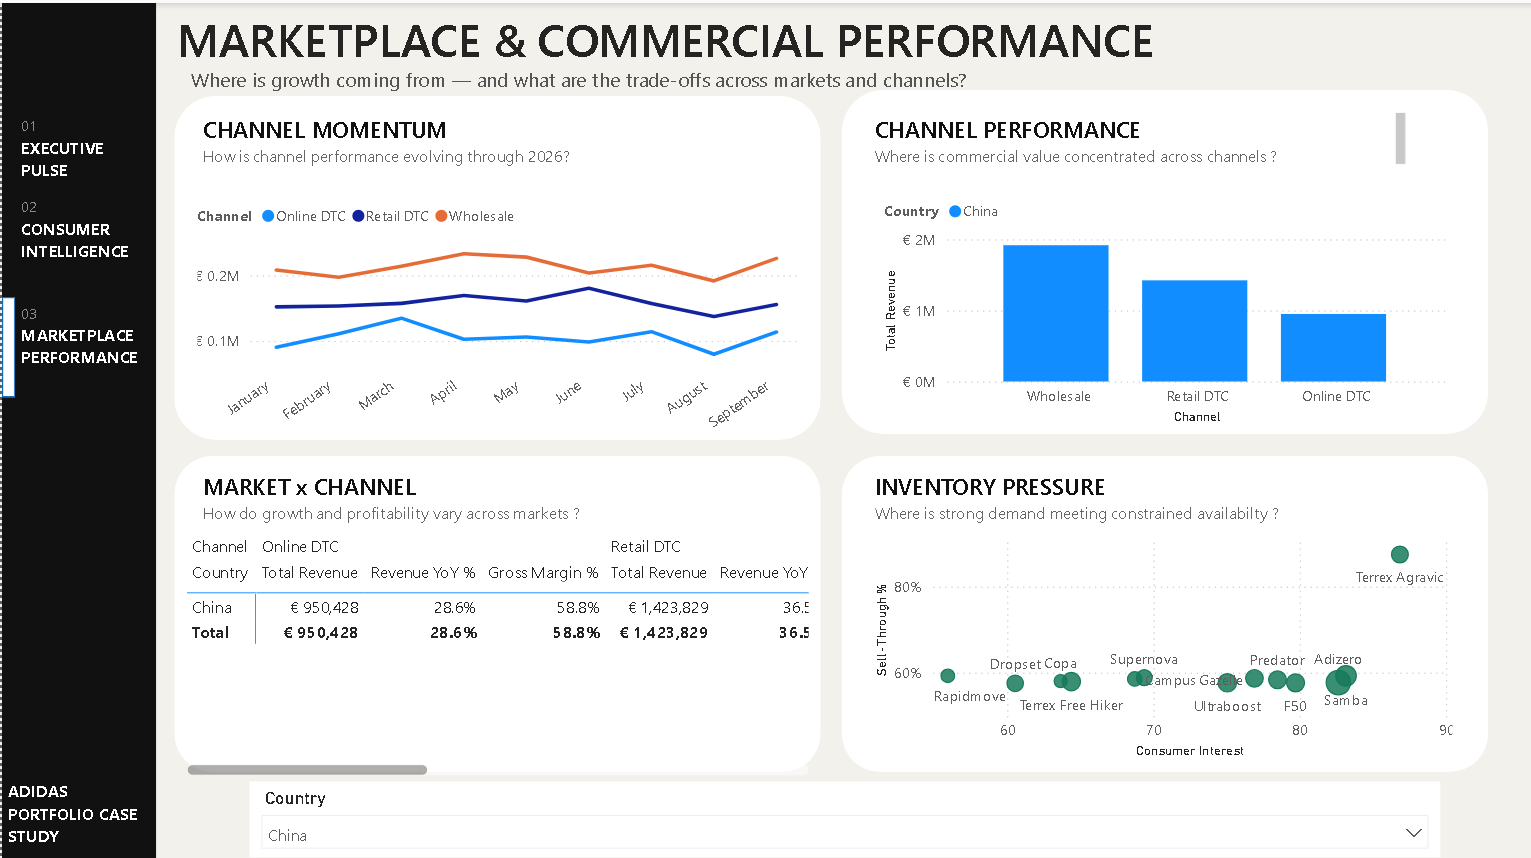

This screenshot's page, from the dashboard's own definition file:
{"tool":"powerbi","page":{"name":"Marketplace Performance","canvas":[1280,720],"ordinal":3},"visuals":[{"type":"shape","box":[693,369.2,557.2,281.3],"z":0},{"type":"shape","box":[135.9,369.2,557.2,281.3],"z":1000},{"type":"shape","box":[135.9,68.6,557.2,304.7],"z":2000},{"type":"shape","box":[693,64.5,557.2,304.7],"z":3000},{"type":"shape","box":[10,0,119,720.5],"z":4000},{"type":"shape","box":[0,0,119.4,720.5],"z":5000},{"type":"textbox","box":[141.3,0,911.2,67.2],"z":6000},{"type":"textbox","box":[152.3,48,776.7,38.4],"z":7000},{"type":"clusteredColumnChart","fields":{"Category":["Fact_Sales.Channel"],"Y":["Fact_Sales.Total Revenue"],"Series":["Fact_Sales.Country"]},"box":[731.5,153.7,480.3,201.7],"z":8000},{"type":"pivotTable","fields":{"Rows":["Fact_Sales.Country"],"Columns":["Fact_Sales.Channel"],"Values":["Fact_Sales.Total Revenue","Fact_Sales.Revenue YoY %","Fact_Sales.Gross Margin %"]},"box":[149.6,437.8,529.7,212.7],"z":9000},{"type":"lineChart","fields":{"Category":["Dim_Date.Month"],"Y":["Fact_Sales.Total Revenue"],"Series":["Fact_Sales.Channel"]},"box":[157.8,157.8,514.6,215.5],"z":10000},{"type":"slicer","fields":{"Values":["Fact_Sales.Country"]},"box":[207.2,650.5,994.9,63.1],"z":11000},{"type":"scatterChart","fields":{"X":["Fact_Sales.Consumer Interest"],"Y":["Fact_Sales.Sell-Through %"],"Size":["Fact_Sales.Total Revenue"],"Category":["Fact_Sales.Franchise"]},"box":[724.6,437.8,492.7,197.6],"z":12000},{"type":"textbox","box":[11,153.7,108.4,89.2],"z":13000},{"type":"textbox","box":[11,86.5,141.3,159.2],"z":14000},{"type":"shape","box":[0,245.6,11,83.7],"z":15000},{"type":"textbox","box":[11,242.9,108.4,86.5],"z":16000},{"type":"textbox","box":[0,642.2,119.4,78.2],"z":17000},{"type":"textbox","box":[163.3,86.5,451.5,67.2],"z":18000},{"type":"textbox","box":[724.6,86.5,452.9,53.5],"z":19000},{"type":"textbox","box":[163.3,384.3,509.1,64.5],"z":19001},{"type":"textbox","box":[724.6,384.3,487.2,64.5],"z":19002}]}

Visuals, with their boxes on the page's 1280x720 design canvas (x1, y1, x2, y2). These are canvas units, not pixel positions in the 1531x858 screenshot, which may show the page scaled, cropped or inside an application window:
shape: x1=693 y1=369 x2=1250 y2=650
shape: x1=136 y1=369 x2=693 y2=650
shape: x1=136 y1=69 x2=693 y2=373
shape: x1=693 y1=64 x2=1250 y2=369
shape: x1=10 y1=0 x2=129 y2=720
shape: x1=0 y1=0 x2=119 y2=720
textbox: x1=141 y1=0 x2=1052 y2=67
textbox: x1=152 y1=48 x2=929 y2=86
clusteredColumnChart - Fact_Sales.Channel x Fact_Sales.Total Revenue: x1=732 y1=154 x2=1212 y2=355
pivotTable - Fact_Sales.Country x Fact_Sales.Channel: x1=150 y1=438 x2=679 y2=650
lineChart - Dim_Date.Month x Fact_Sales.Total Revenue: x1=158 y1=158 x2=672 y2=373
slicer - Fact_Sales.Country: x1=207 y1=650 x2=1202 y2=714
scatterChart - Fact_Sales.Consumer Interest x Fact_Sales.Sell-Through %: x1=725 y1=438 x2=1217 y2=635
textbox: x1=11 y1=154 x2=119 y2=243
textbox: x1=11 y1=86 x2=152 y2=246
shape: x1=0 y1=246 x2=11 y2=329
textbox: x1=11 y1=243 x2=119 y2=329
textbox: x1=0 y1=642 x2=119 y2=720
textbox: x1=163 y1=86 x2=615 y2=154
textbox: x1=725 y1=86 x2=1178 y2=140
textbox: x1=163 y1=384 x2=672 y2=449
textbox: x1=725 y1=384 x2=1212 y2=449
